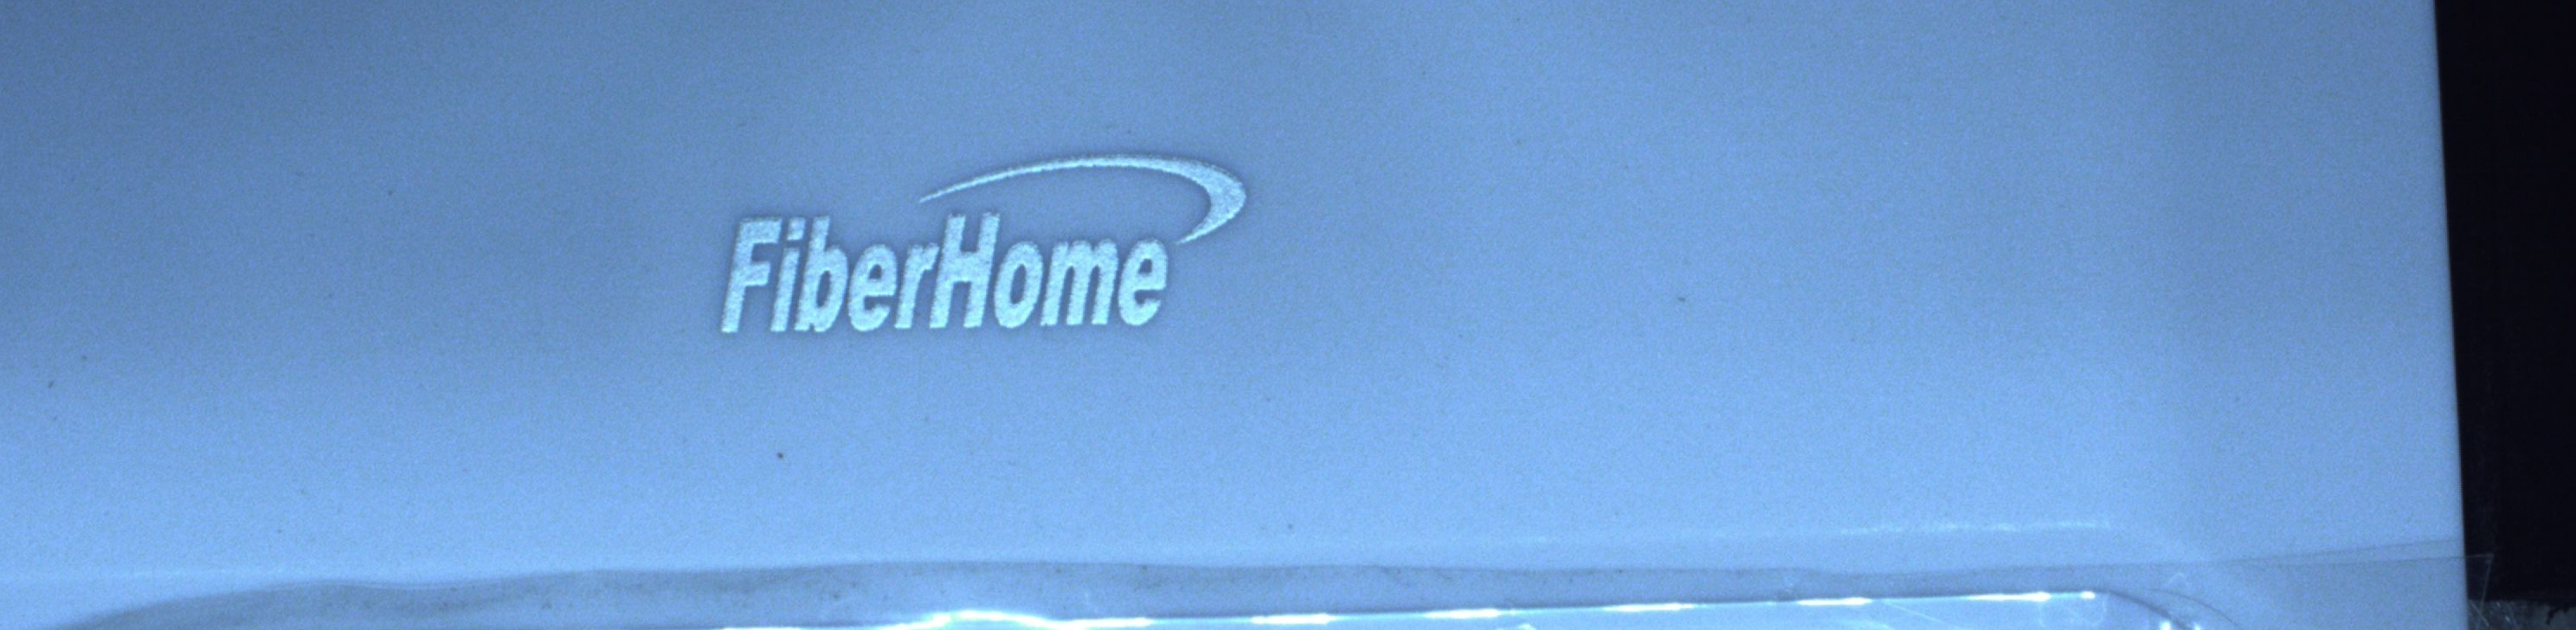AI_FiberHome: (690, 139, 1257, 345)
